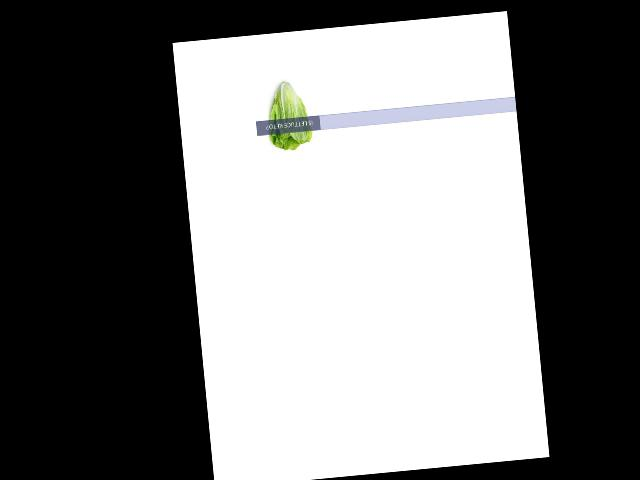lettuce: (260, 73, 315, 152)
